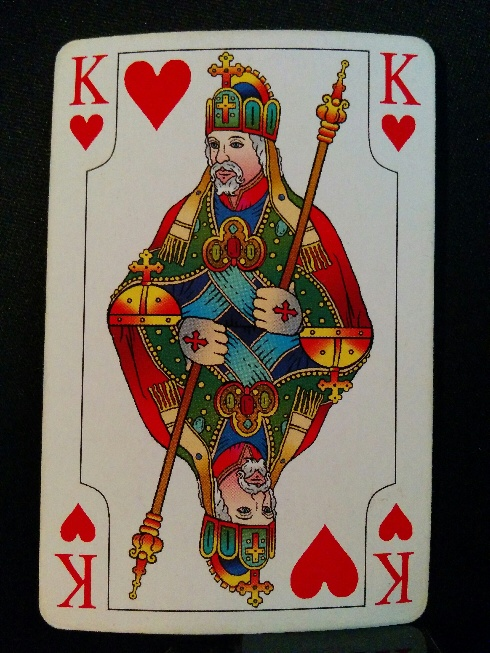Hk: (50, 497, 103, 615), (375, 499, 419, 610), (377, 49, 423, 155), (66, 50, 112, 153)
